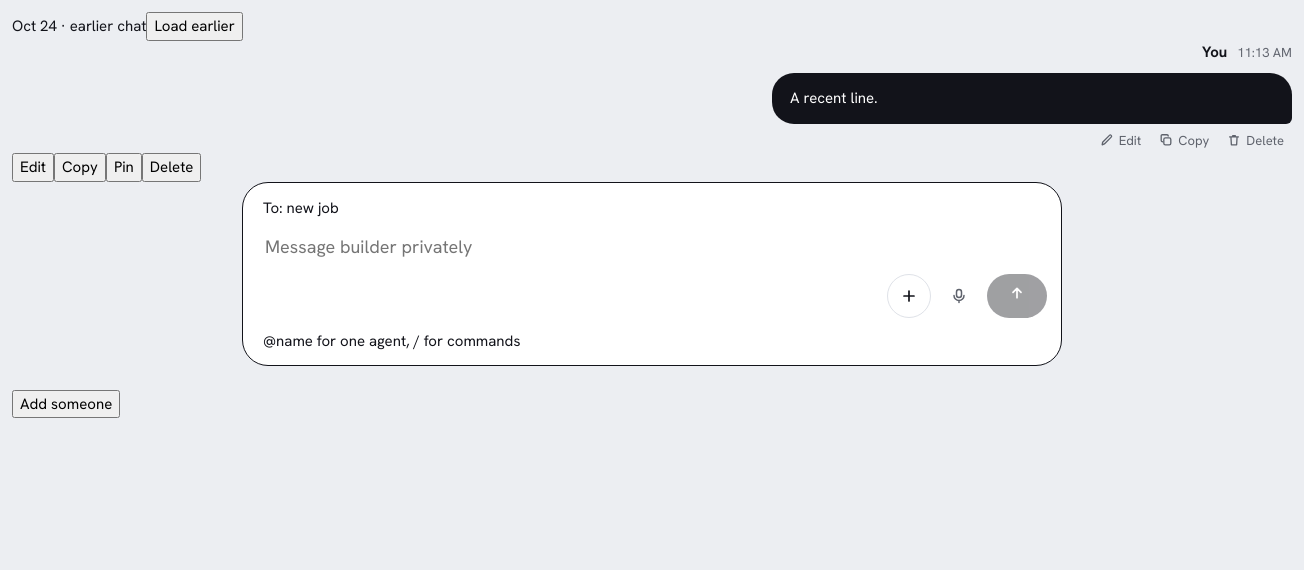
Scenario: "Load earlier" fetches the page before the oldest message
This screenshot has width=1304, height=570.
Click the button "Load earlier" at (195, 26), box 146,12 -> 243,40
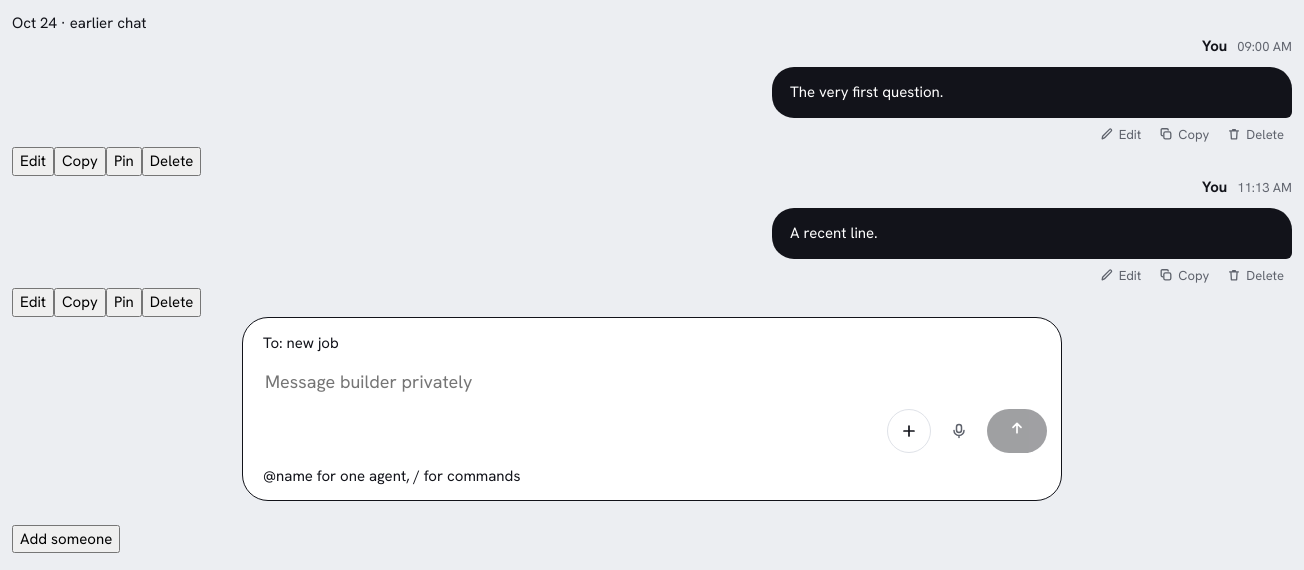
Expected: the element with class "bold-dm-message" shows "A recent line.", 790,223 -> 878,243
Now the element with class "bold-dm-message" shows "The very first question.", box 790,82 -> 943,102
Now the button "Load earlier" is gone
